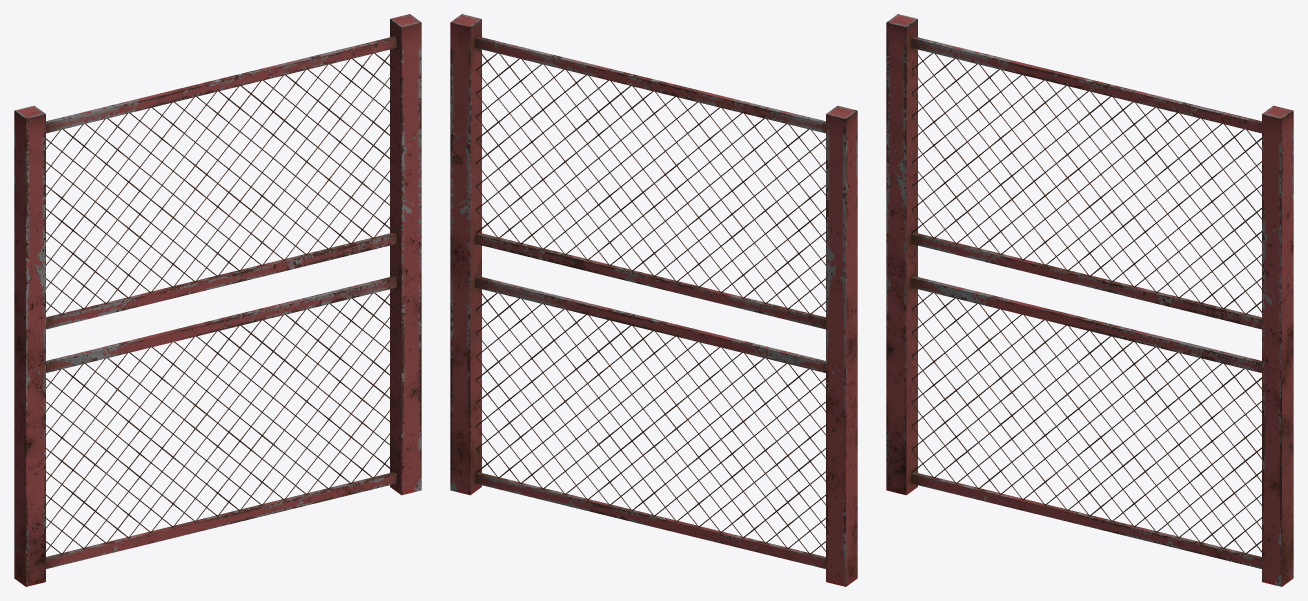
Rendered from fence.glb.
The picture shows the model from 3 angles, left to right: view 1: azimuth 30°, elevation 25°; view 2: azimuth 150°, elevation 25°; view 3: azimuth 330°, elevation 25°; orthographic projection.
Parts seen in each view (by area): view 1: Net_A.002; view 2: Net_A.002; view 3: Net_A.002.
Part boxes in pixels (x1,y1,x2,y2): Net_A.002: (14,14,421,586); Net_A.002: (450,14,857,586); Net_A.002: (886,14,1293,586).
Bounding box in the file's own units: 2.12 × 2.4 × 0.1075.
2 materials, 2 textured.
